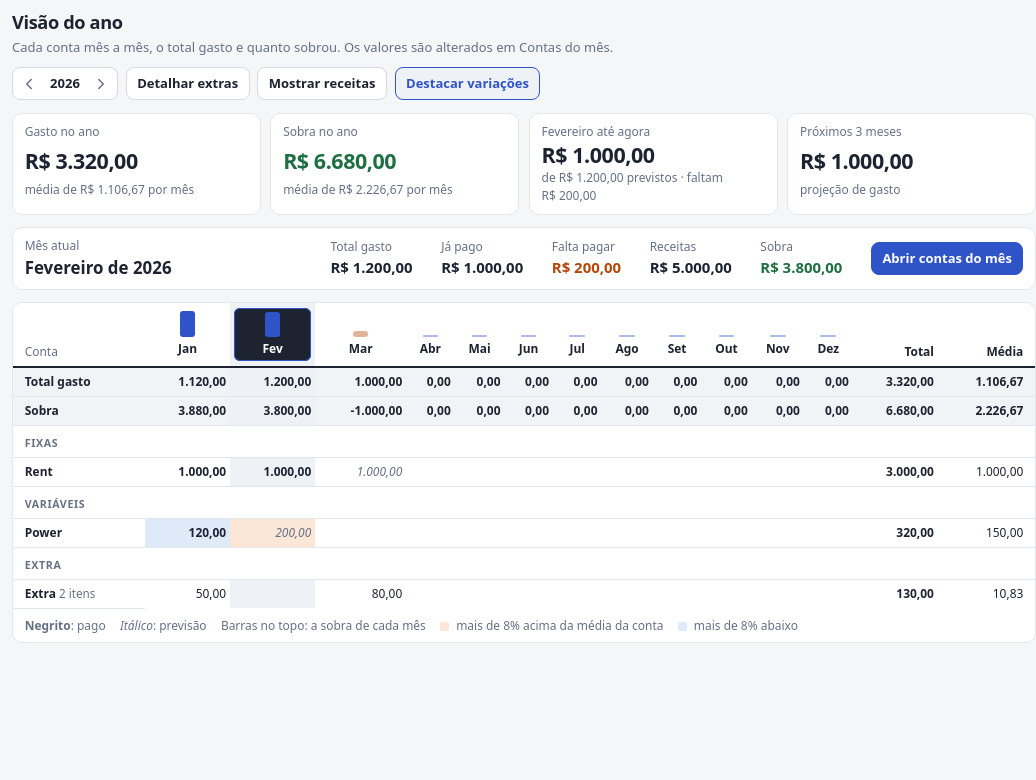
it: YearPage › loads another year when the year is changed
The width and height of the screenshot is (1036, 780).
Check: the element named "Contas do ano" is shown, box [12, 302, 1035, 643]
What coordinates should you click on to do the following:
click the button named "Ano anterior"
I would click on:
 (29, 84)
Its box is [15, 70, 42, 97].
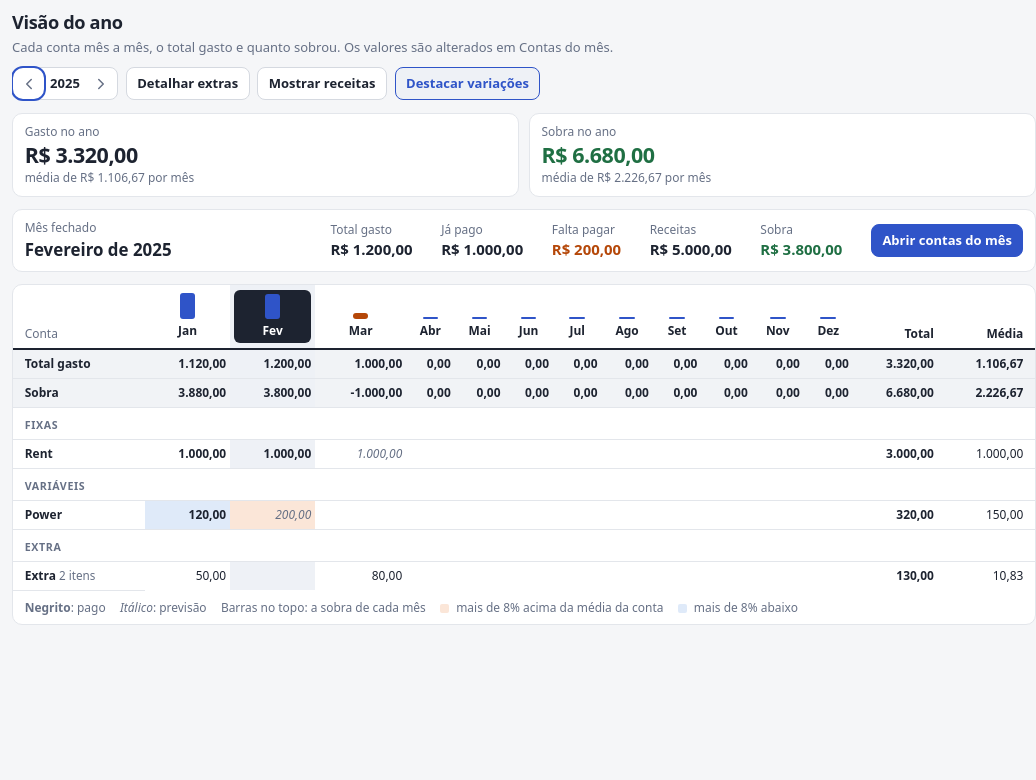
Check: the text "Fevereiro de 2025" is shown, box [25, 238, 172, 261]
Check: the text "Mês fechado" is shown, box [25, 219, 96, 236]
